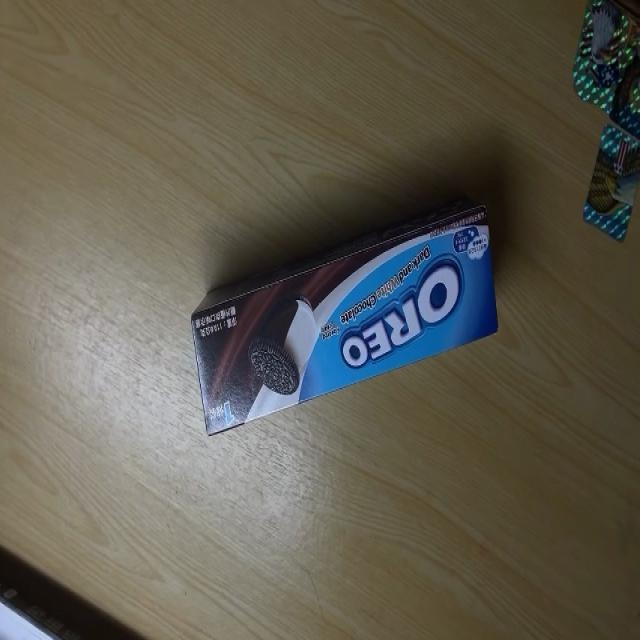Oreo: (191, 206, 498, 436)
